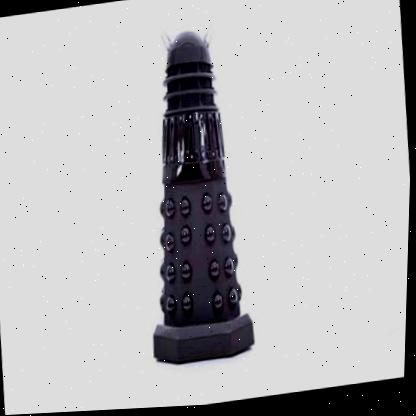dalek: (89, 2, 310, 376)
